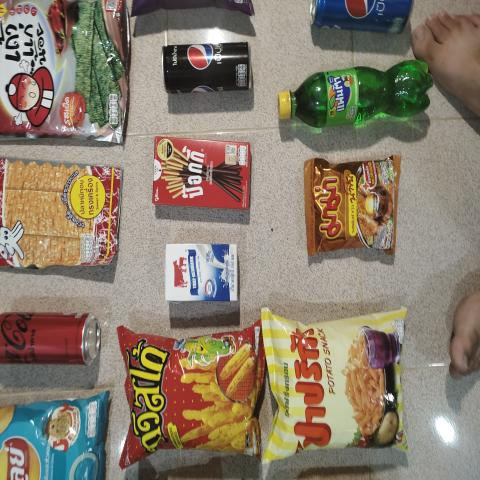bento_red: (0, 169, 124, 261)
coke_red: (0, 303, 100, 363)
fanta_green: (279, 42, 433, 137)
mama: (308, 162, 398, 266)
paprika: (272, 320, 404, 448)
pepsi_black: (156, 40, 256, 97)
pokki: (156, 137, 249, 214)
taokaenoi: (0, 0, 123, 142), (144, 180, 145, 190)
thai_denmark: (167, 240, 239, 314)
twisco: (115, 333, 254, 451)
